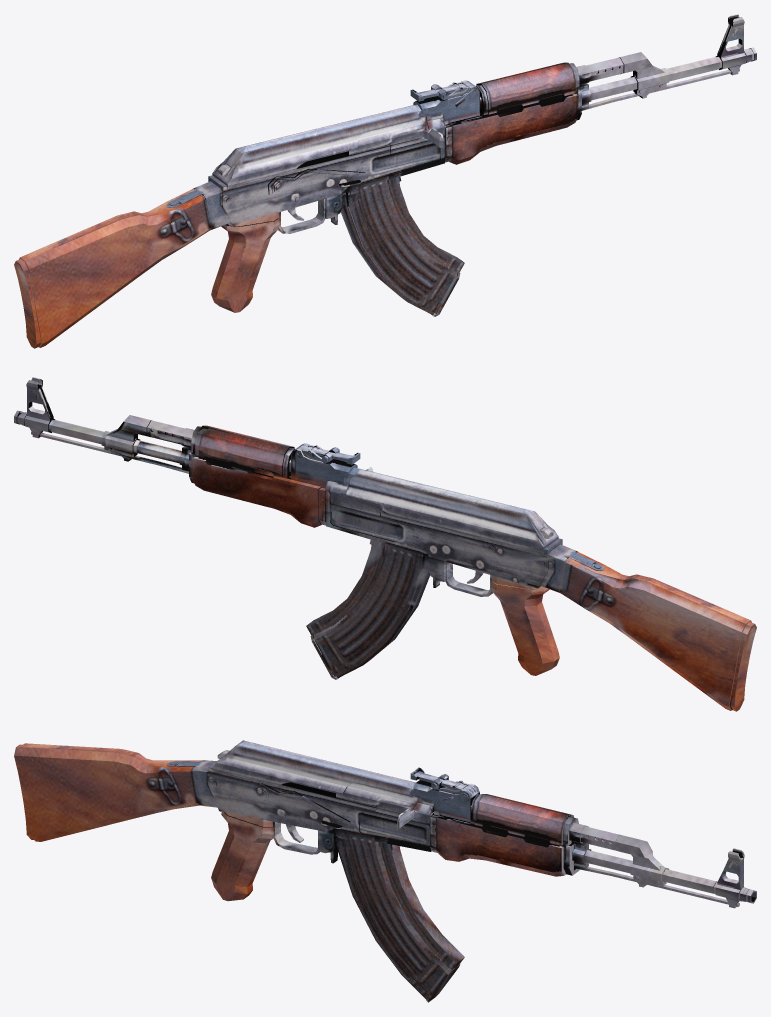
3 views of the same model, one above another, from view 1: azimuth 30°, elevation 25°; view 2: azimuth 150°, elevation 25°; view 3: azimuth 330°, elevation 25° (orthographic).
Visible parts, largest first — view 1: Cube.015; view 2: Cube.015; view 3: Cube.015.
Boxes of the visible parts, <box> form: Cube.015: <box>14,14,756,348</box>; Cube.015: <box>14,377,756,711</box>; Cube.015: <box>14,740,756,1002</box>.
Bounding box in the file's own units: 2.97 × 0.8698 × 0.216.
1 material, 1 textured.
